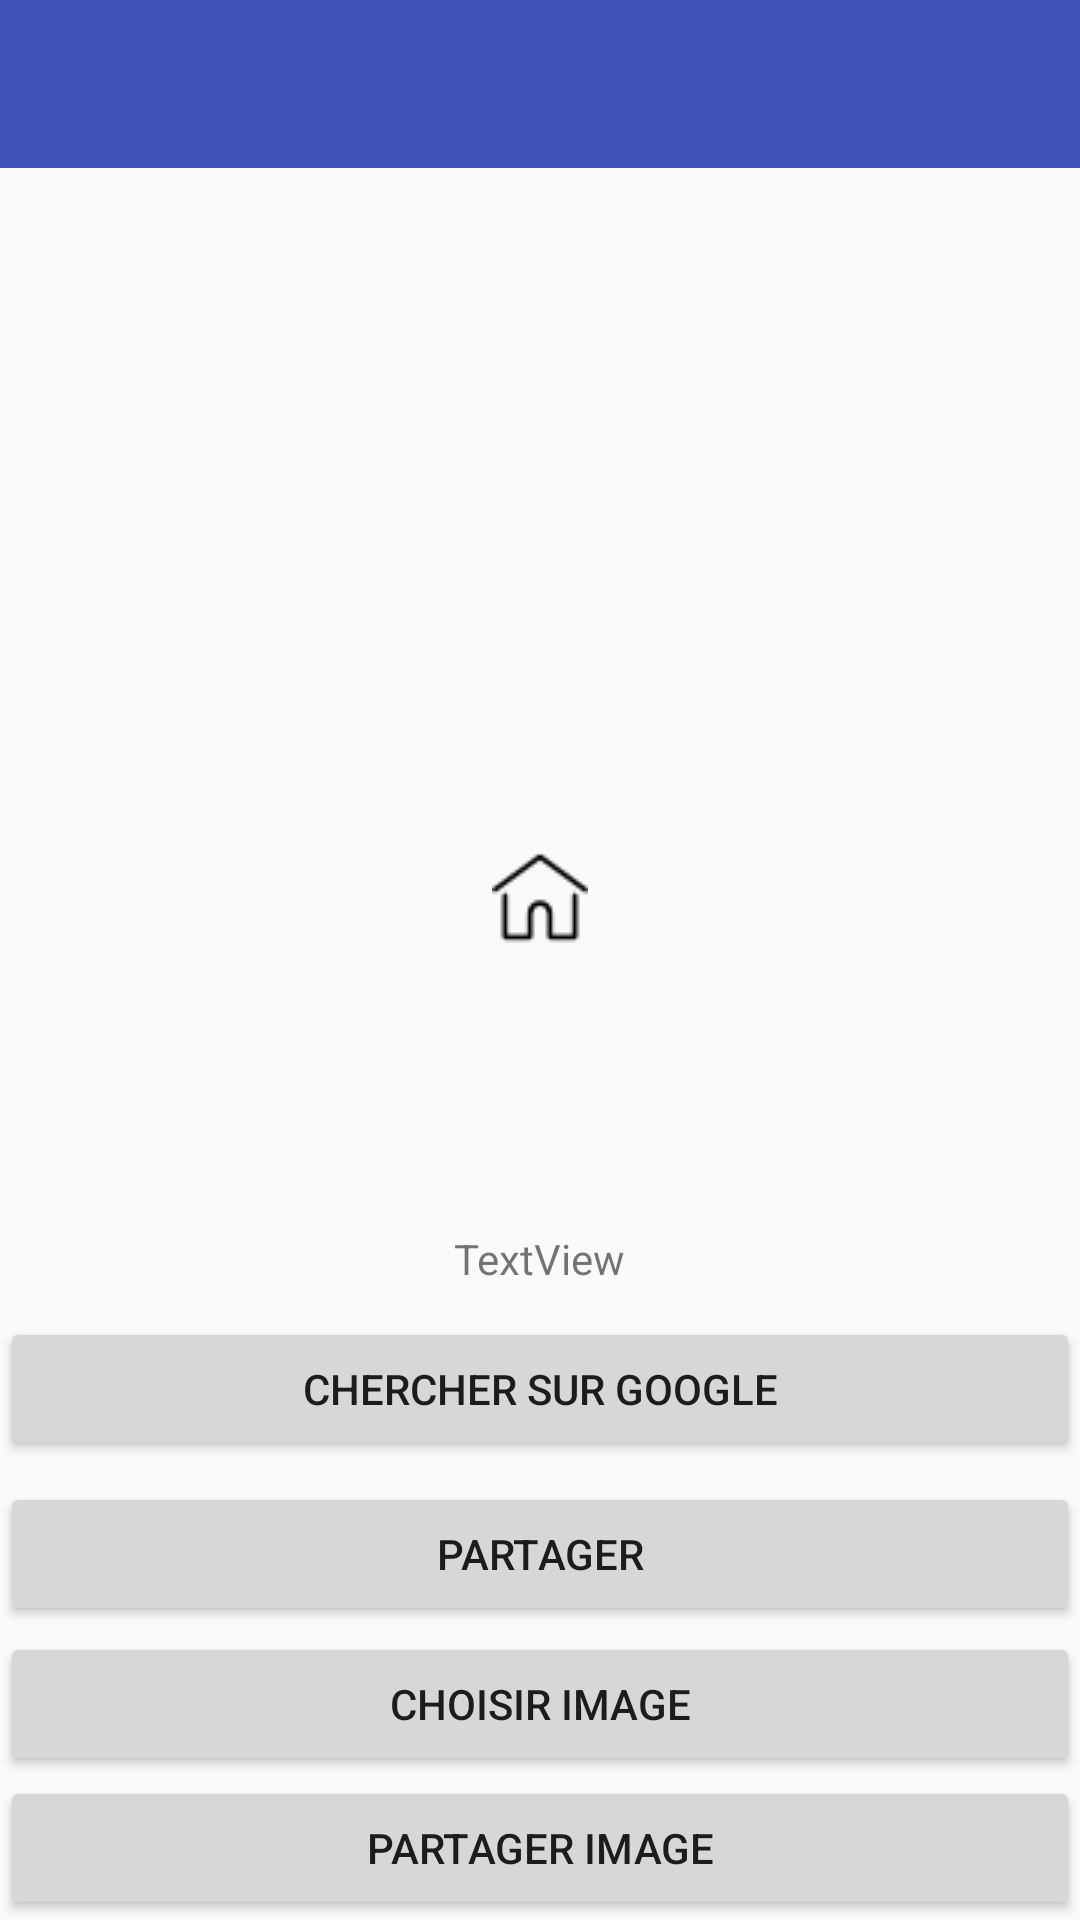

Named icons in this screenshot (1080 × 1920) and their centers, (x,y):
home: (540,898)
